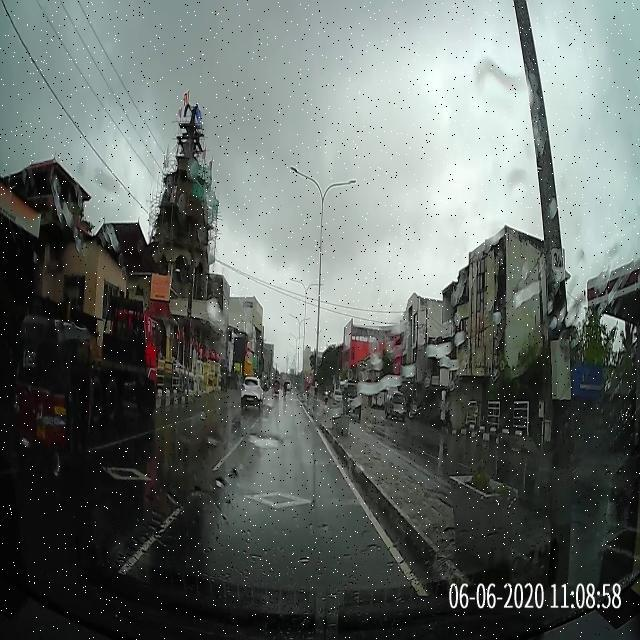diamond: (161, 468, 384, 525)
